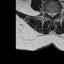CCS_stenosis: (51, 10, 53, 19)
LFS_normal: (55, 9, 57, 17)
LLS_normal: (53, 10, 55, 17)
RFS_normal: (46, 9, 49, 16)
RLS_normal: (49, 10, 51, 18)
